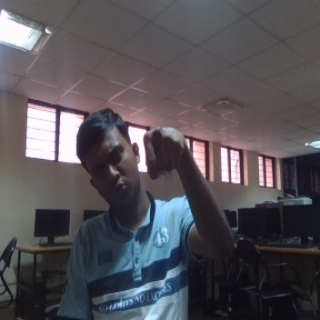Face: (75, 107, 143, 215)
Yes: (142, 123, 195, 185)
